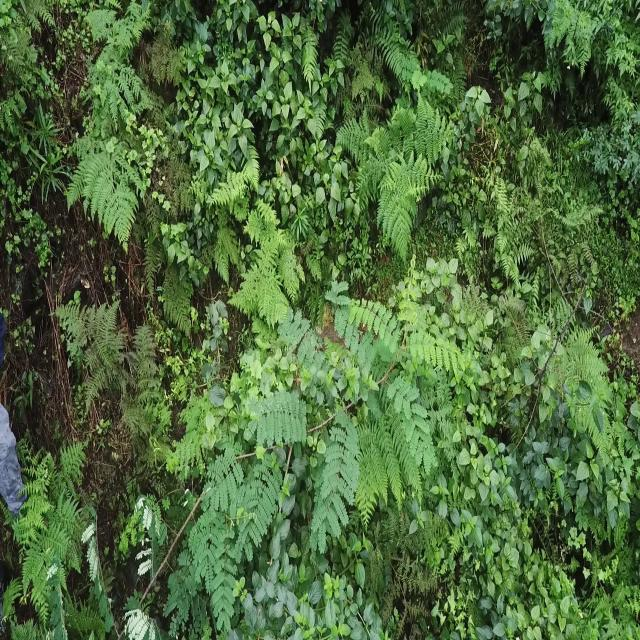Mysore-Thorn-Weed: (238, 270, 471, 562), (49, 425, 243, 636)
